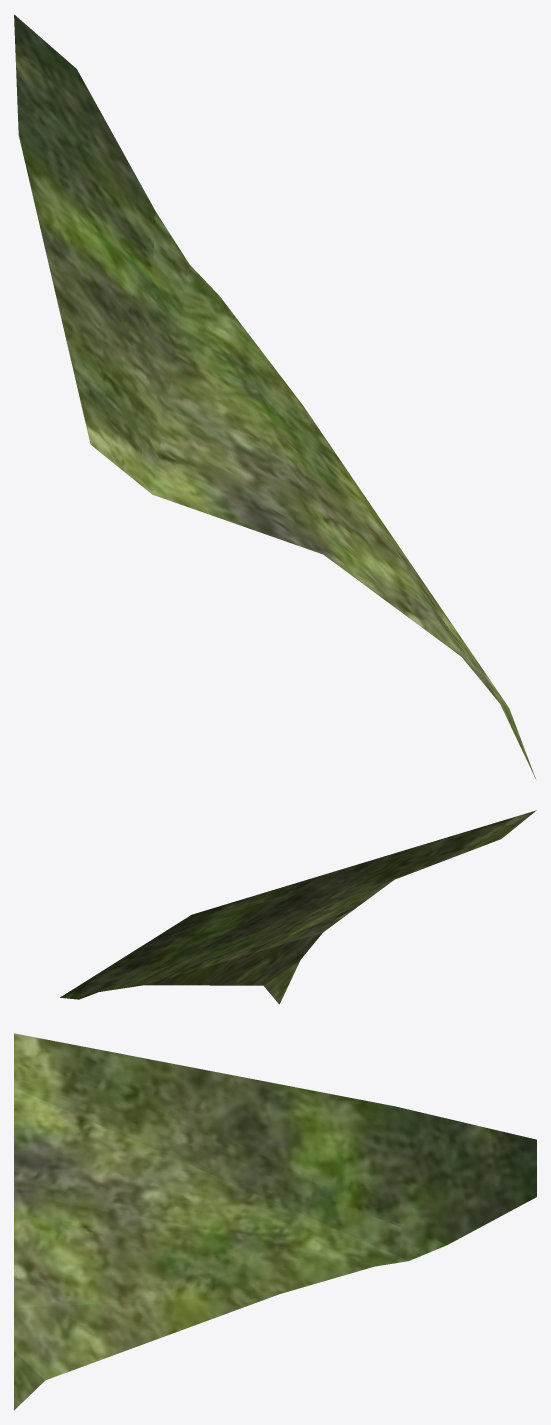
3 views of the same model, one above another, from view 1: azimuth 30°, elevation 25°; view 2: azimuth 150°, elevation 25°; view 3: azimuth 270°, elevation 25° (orthographic). The views are drawn at different scales.
Size of the model in its own units: 1.65 by 1.58 by 2.95.
2 materials, 2 textured.
